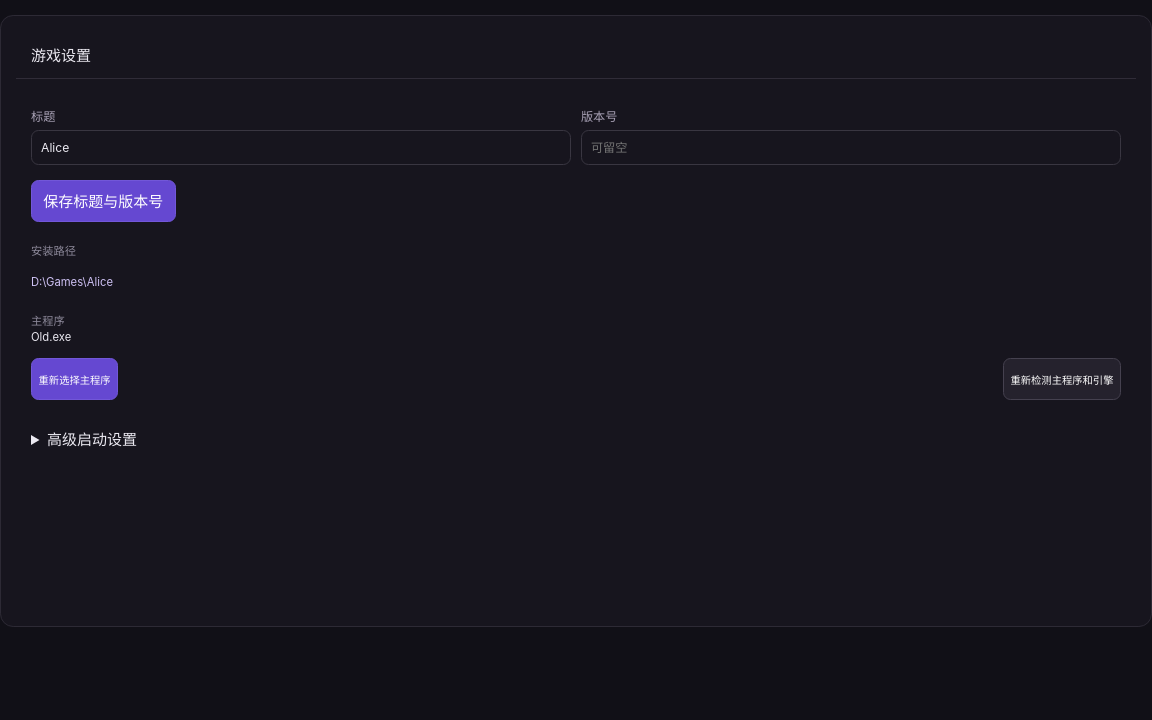
Test: GameSettingsPanel › keeps the old game when reanalysis is cancelled
Step 1. Click the button with test id "reanalyze-game" → (1062, 379), box [1003,358,1121,400]
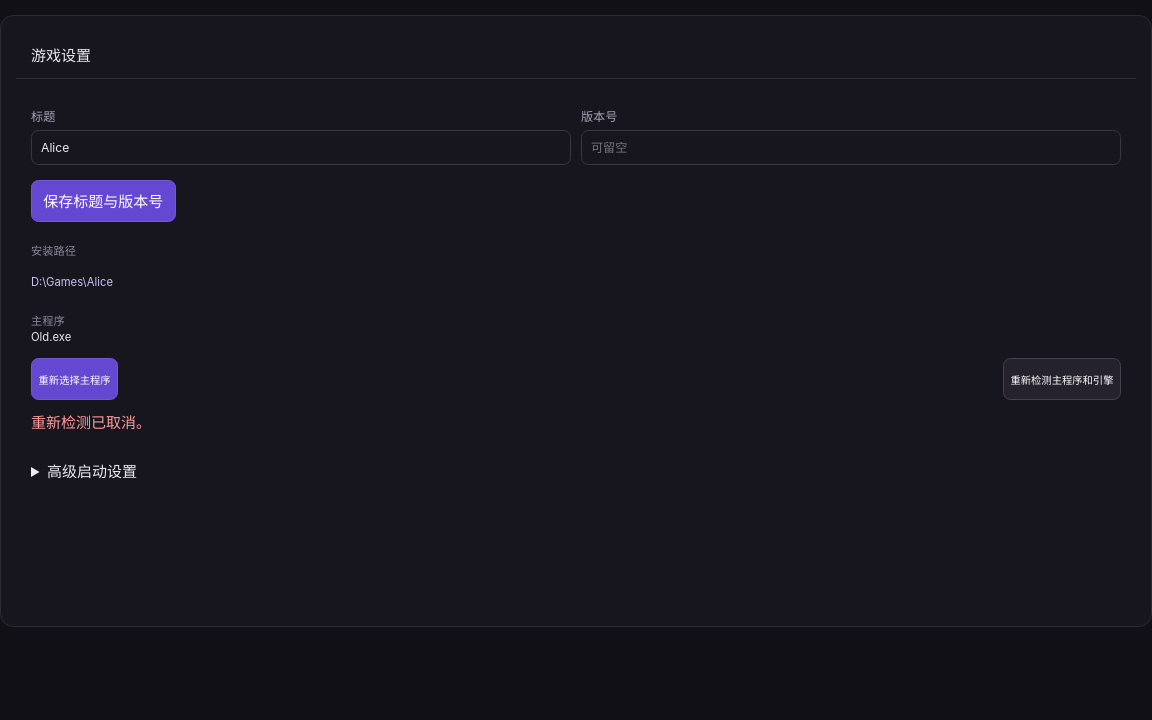
expect the text "Old.exe" is shown: met, box [31,330,71,344]
expect the message with test id "reanalysis-error" reads "重新检测已取消。": met, box [31,413,151,432]
